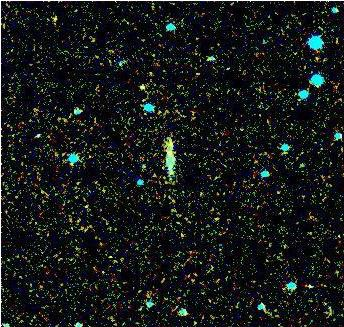star: (44, 7, 74, 37)
